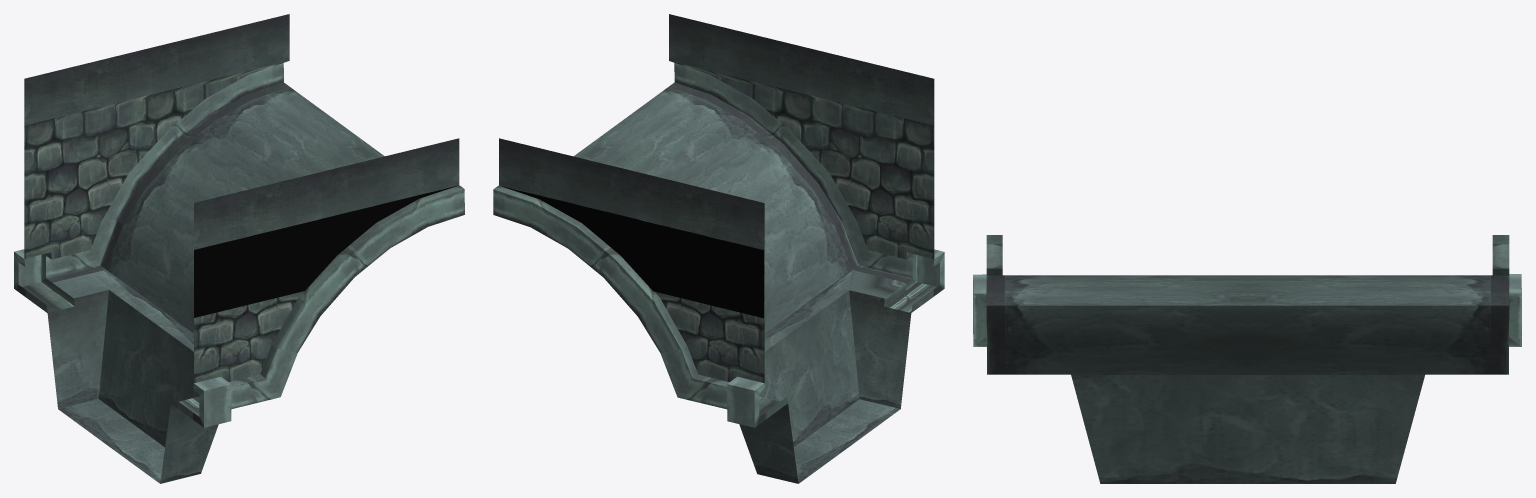
Rendered from crypt_bridgesmall_transition_01.fbx.
3 views of the same model, side by side, from view 1: azimuth 30°, elevation 25°; view 2: azimuth 150°, elevation 25°; view 3: azimuth 270°, elevation 25° (orthographic). The views are drawn at different scales.
Parts seen in each view (by area): view 1: crypt_bridgesmall_transition_01-0; view 2: crypt_bridgesmall_transition_01-0; view 3: crypt_bridgesmall_transition_01-0.
Part boxes in pixels (box(x1,y1,x2,y2)): crypt_bridgesmall_transition_01-0: box(14, 14, 464, 483); crypt_bridgesmall_transition_01-0: box(493, 14, 944, 483); crypt_bridgesmall_transition_01-0: box(973, 235, 1521, 483).
Bounding box in the file's own units: 4.01 × 4.4 × 4.96.
